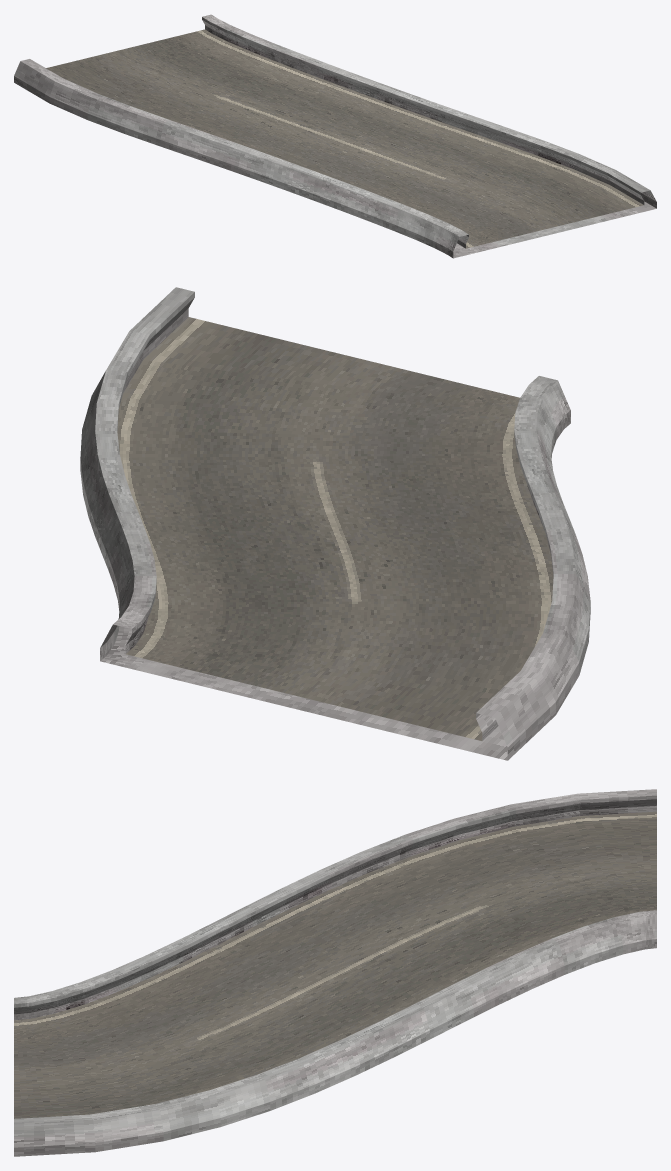
File: road-Chicane-Flat-Flat-Up1-Left1-Size2.glb
The picture shows the model from 3 angles, top to bottom: view 1: azimuth 30°, elevation 25°; view 2: azimuth 150°, elevation 25°; view 3: azimuth 270°, elevation 25°; orthographic projection. The views are drawn at different scales.
Visible parts, largest first — view 1: road-Chicane-Flat-Flat-Up1-Left1-Size2; view 2: road-Chicane-Flat-Flat-Up1-Left1-Size2; view 3: road-Chicane-Flat-Flat-Up1-Left1-Size2.
Boxes of the visible parts, x1,y1,x2,y2 form: road-Chicane-Flat-Flat-Up1-Left1-Size2: (14,14,656,258); road-Chicane-Flat-Flat-Up1-Left1-Size2: (80,287,590,760); road-Chicane-Flat-Flat-Up1-Left1-Size2: (14,789,656,1156).
Bounding box in the file's own units: 2 × 0.3438 × 2.
Materials: 2 (2 with a texture image).
